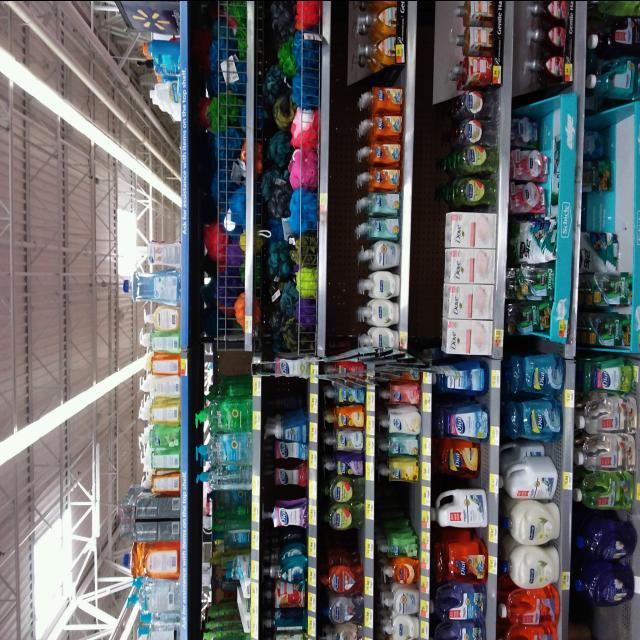empty_space: (139, 116, 177, 232), (576, 607, 632, 633), (382, 488, 414, 521), (269, 380, 304, 406), (327, 532, 358, 550)
